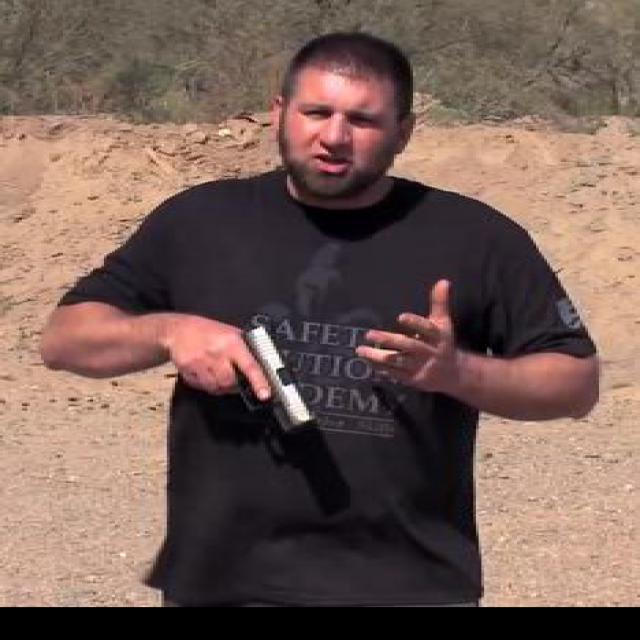Gun: (170, 322, 312, 428)
